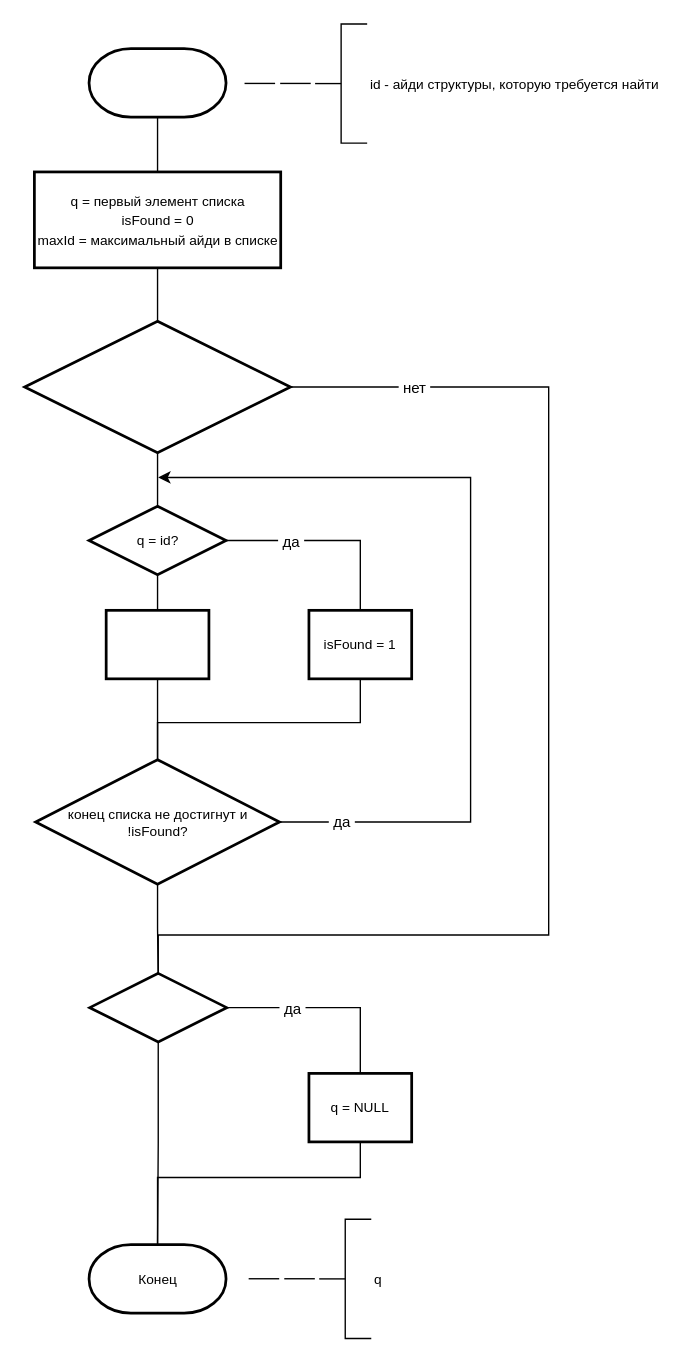
The diagram is 682 pixels wide and 1363 high, and some of its shapes have lost their labels. The shapes that lost their labels are listed below. From the top down, each one's box as (x1, y1, x2, y2) in pixels, then its label:
(87, 47, 227, 118): selectId()
(23, 319, 291, 453): id > 0 и id < maxId и конец списка не достигнут?
(104, 608, 210, 680): q = элемент после q
(88, 971, 227, 1043): isFound = 0?
